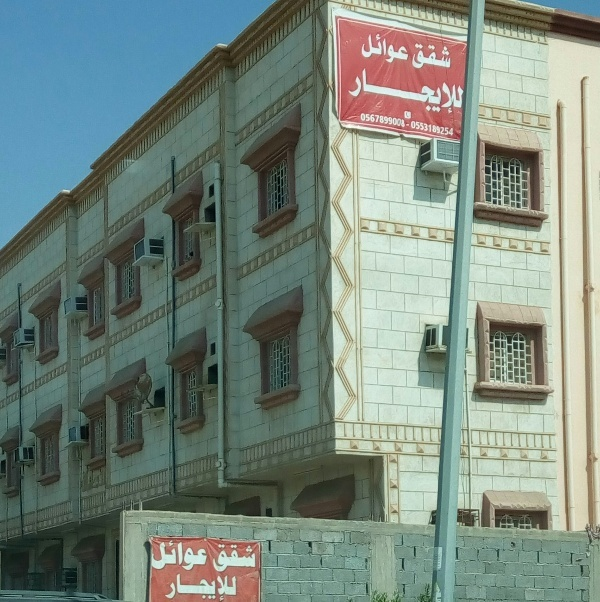text: (449, 66, 465, 117), (353, 66, 368, 117), (369, 66, 384, 117), (385, 66, 400, 117), (401, 66, 416, 117), (417, 66, 432, 117), (433, 66, 448, 117), (369, 28, 384, 65), (385, 28, 400, 65), (241, 543, 257, 573), (161, 539, 176, 571), (177, 539, 192, 571), (193, 539, 208, 571), (225, 543, 240, 573), (177, 573, 192, 602), (193, 573, 208, 602), (209, 573, 224, 602), (417, 42, 432, 70), (433, 42, 448, 70), (212, 543, 224, 573), (225, 573, 237, 602), (401, 28, 409, 65), (361, 28, 368, 65), (152, 539, 160, 571), (417, 121, 432, 137), (433, 121, 448, 137), (369, 113, 384, 128), (385, 113, 400, 128), (169, 573, 176, 602), (361, 113, 368, 128), (449, 121, 455, 137), (449, 42, 452, 70), (411, 121, 416, 137), (401, 113, 406, 128), (414, 42, 416, 70), (351, 66, 352, 117), (406, 123, 416, 127)
